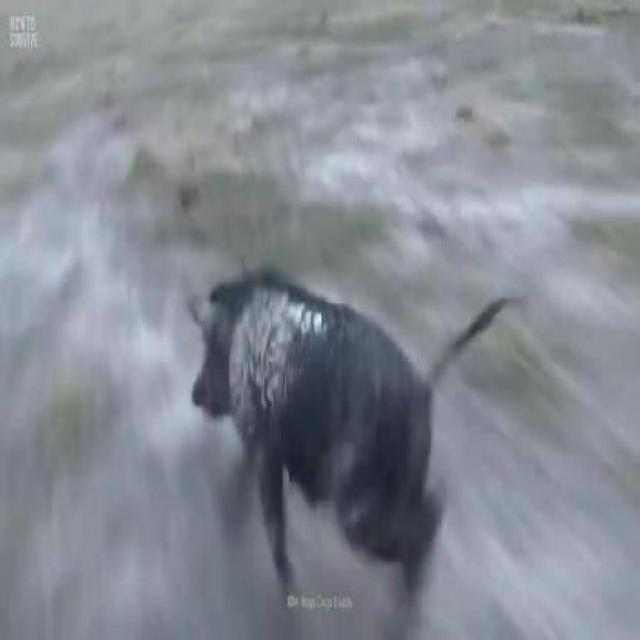Boar: (176, 236, 526, 598)
